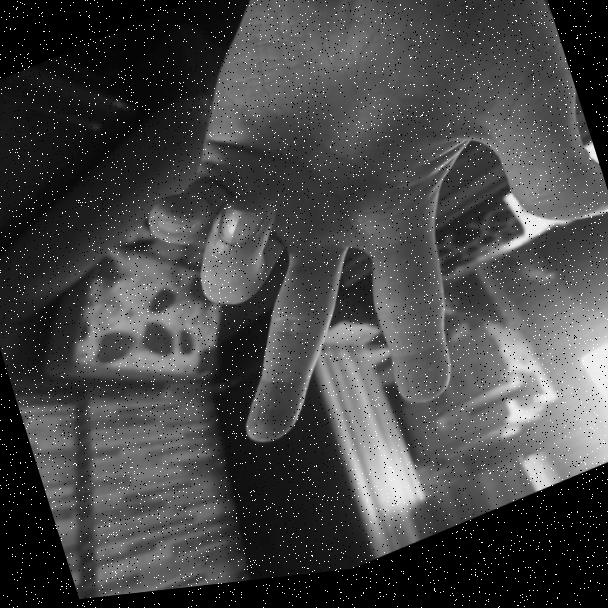three: (97, 0, 608, 499)
